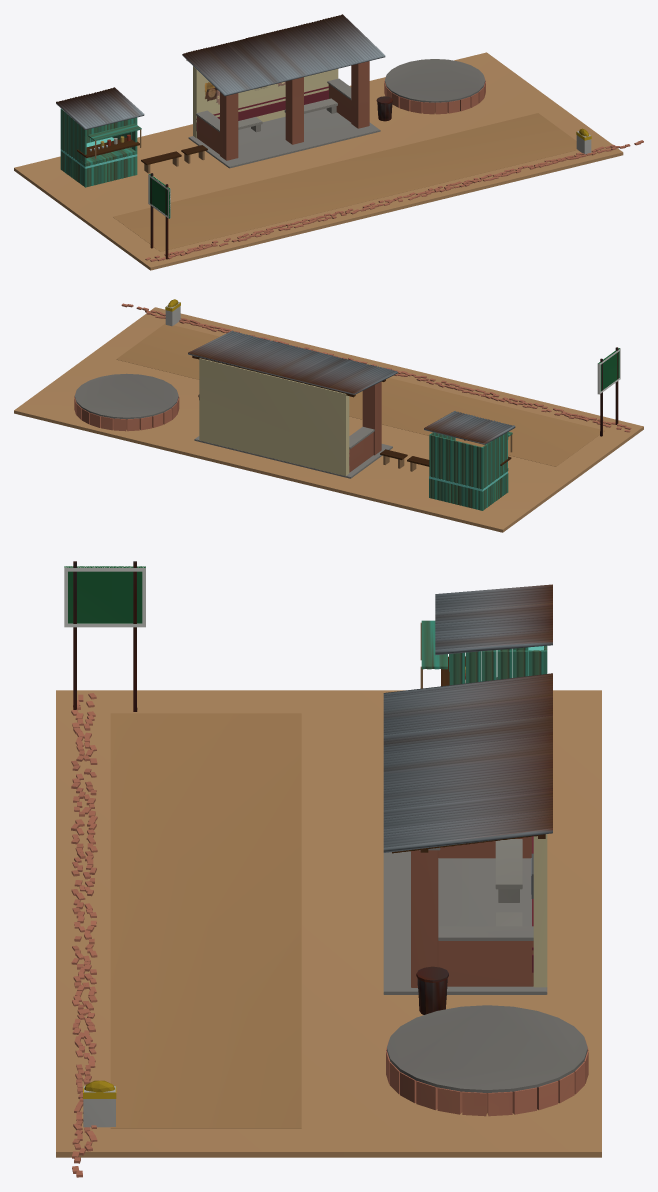
Rendered from bus_adda_v2.glb.
3 renders of one model, top to bottom at view 1: azimuth 30°, elevation 25°; view 2: azimuth 150°, elevation 25°; view 3: azimuth 270°, elevation 25°, orthographic. The views are drawn at different scales.
Visible parts, largest first — view 1: hb_main, hb_tin, hb_brick, hb_props, hb_metal; view 2: hb_main, hb_tin, hb_props, hb_brick, hb_metal; view 3: hb_main, hb_tin, hb_brick, hb_props, hb_metal.
Part boxes in pixels (bbox=[...]): hb_main: bbox=[14, 52, 623, 270]; hb_tin: bbox=[56, 14, 385, 129]; hb_brick: bbox=[145, 61, 643, 261]; hb_props: bbox=[60, 60, 217, 187]; hb_metal: bbox=[150, 96, 392, 259]; hb_main: bbox=[14, 299, 643, 532]; hb_tin: bbox=[188, 330, 515, 444]; hb_props: bbox=[192, 355, 512, 510]; hb_brick: bbox=[74, 303, 631, 472]; hb_metal: bbox=[198, 347, 618, 436]; hb_main: bbox=[56, 566, 601, 1157]; hb_tin: bbox=[383, 584, 552, 852]; hb_brick: bbox=[71, 693, 588, 1177]; hb_props: bbox=[392, 620, 547, 853]; hb_metal: bbox=[73, 561, 497, 1014].
Bounding box in the file's own units: 21.09 × 3.57 × 10.
6 materials, 1 textured.
